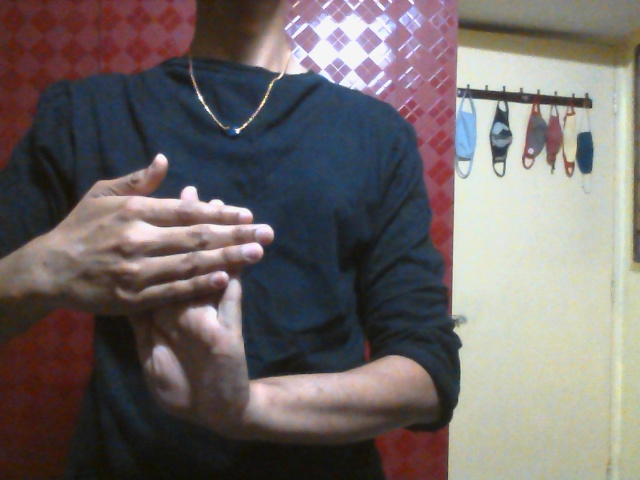H: (80, 152, 276, 444)
